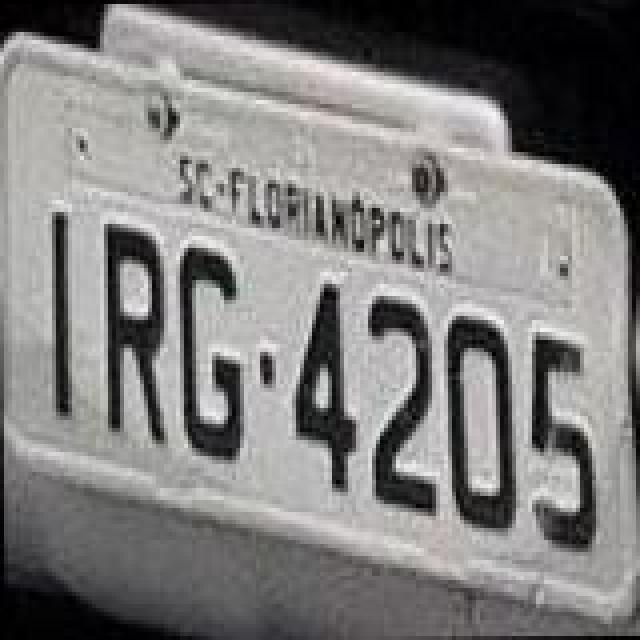1: (46, 204, 74, 420)
2: (362, 292, 438, 524)
4: (286, 274, 362, 494)
5: (526, 328, 602, 552)
G: (176, 238, 248, 466)
O: (442, 310, 518, 530)
R: (102, 220, 170, 452)
